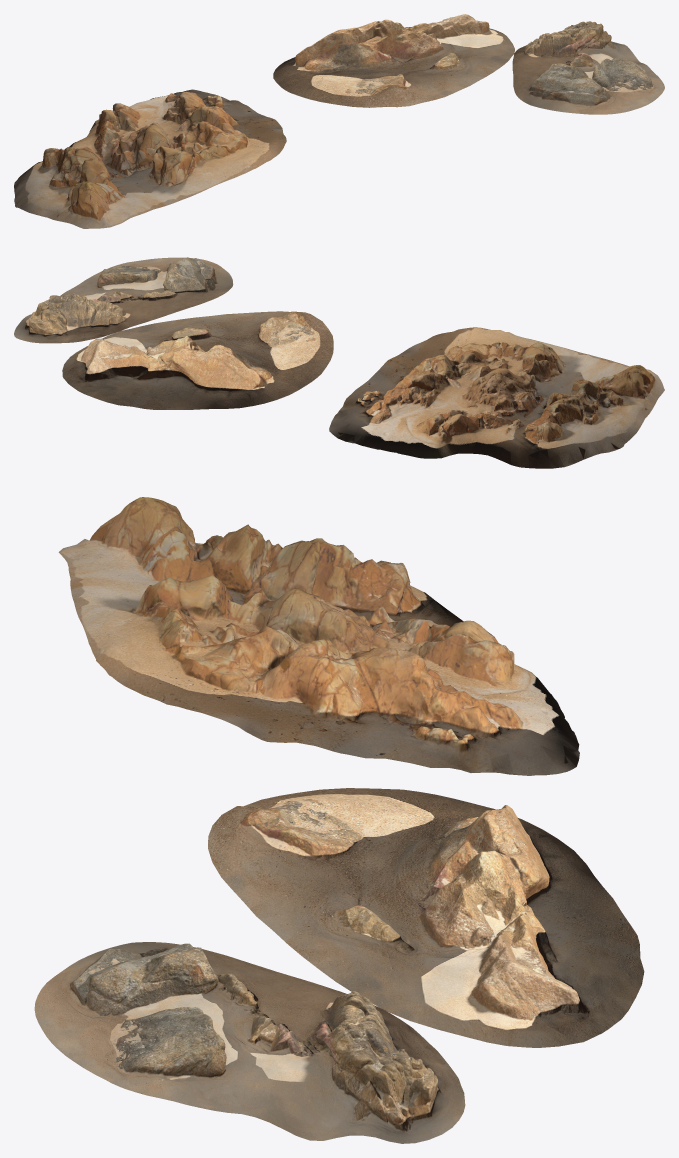
The model's file is batu_kecil.glb.
3 renders of one model, top to bottom at view 1: azimuth 30°, elevation 25°; view 2: azimuth 150°, elevation 25°; view 3: azimuth 270°, elevation 25°, orthographic. The views are drawn at different scales.
Visible parts, largest first — view 1: RocksSmall_47; view 2: RocksSmall_47; view 3: RocksSmall_47.
Boxes of the visible parts, bbox=[...] form: RocksSmall_47: bbox=[14, 14, 664, 228]; RocksSmall_47: bbox=[14, 257, 664, 468]; RocksSmall_47: bbox=[34, 497, 644, 1143].
Bounding box in the file's own units: 38.27 × 3.46 × 17.28.
1 material, 1 textured.
